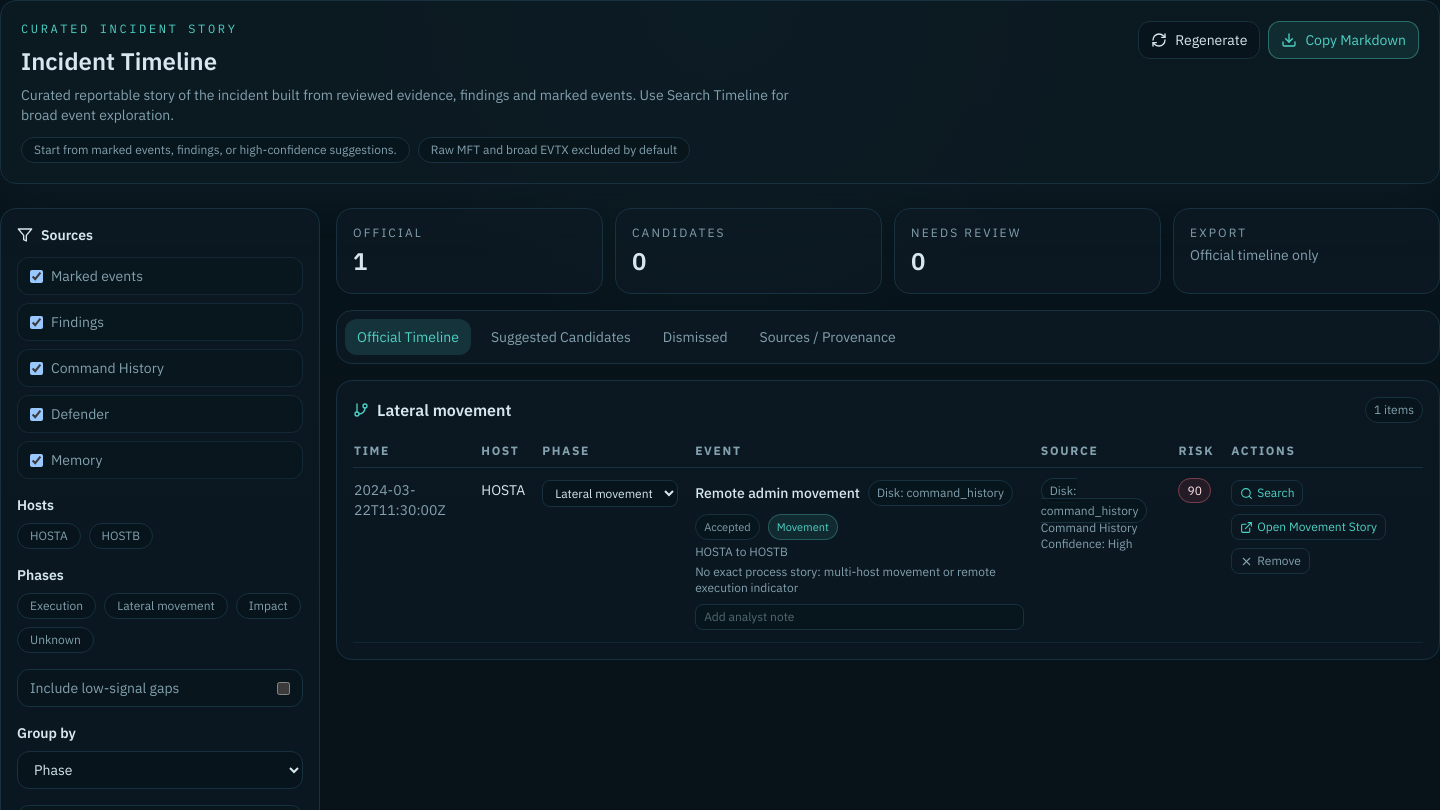
Test: IncidentTimelinePage › removes a draft item without changing the story source
Expected: the text "Remote admin movement" is shown, left=695, top=483, right=860, bottom=503
Click the button "Remove": {"x": 1271, "y": 561} left=1231, top=548, right=1310, bottom=574
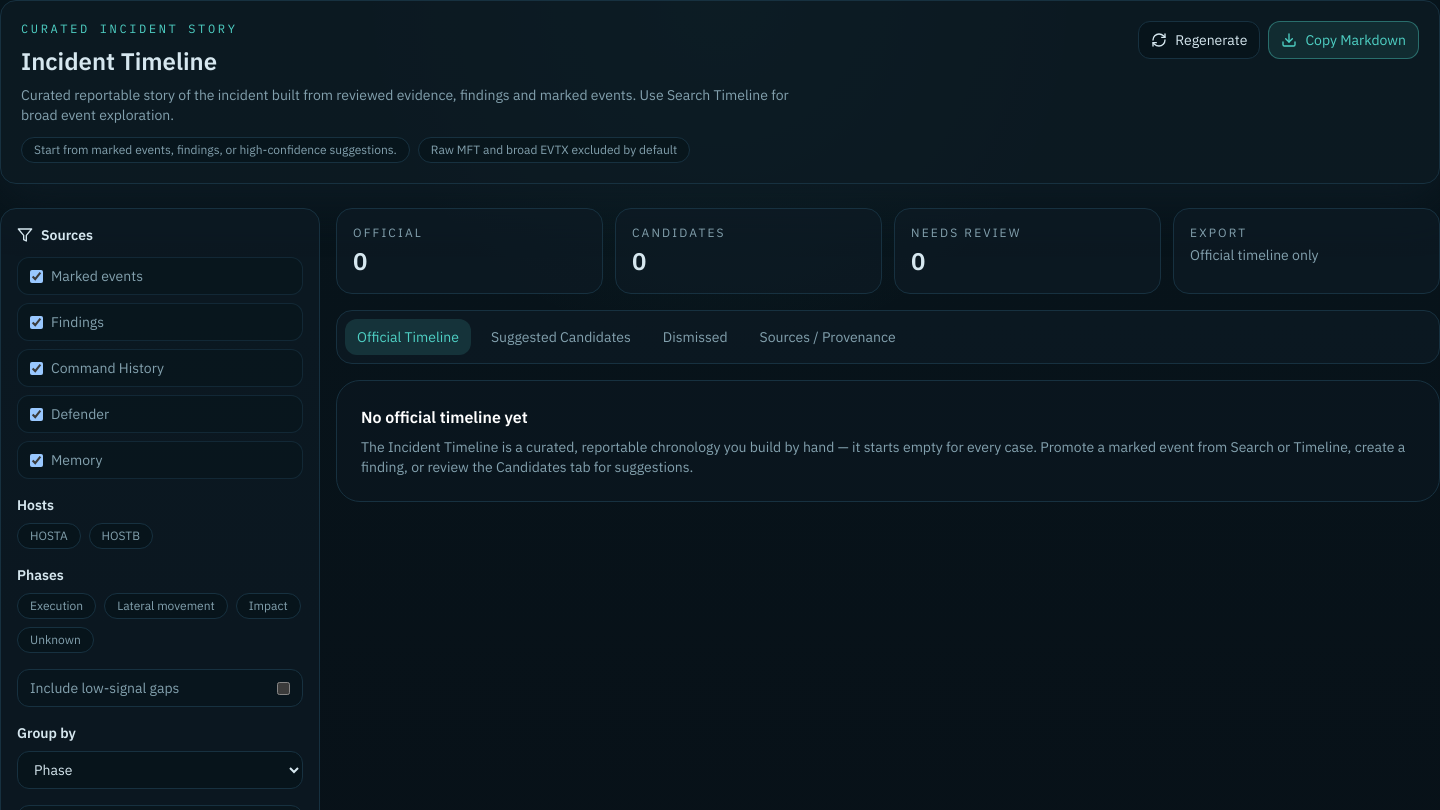
Result: the text "Remote admin movement" is gone
